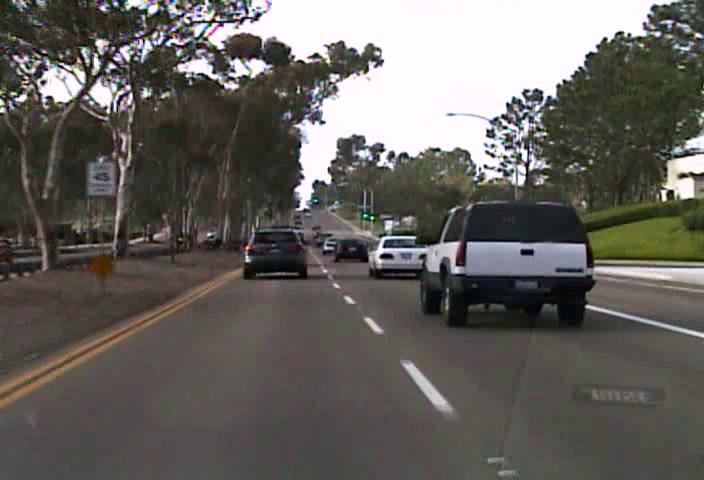speedLimit45: (86, 160, 116, 196)
